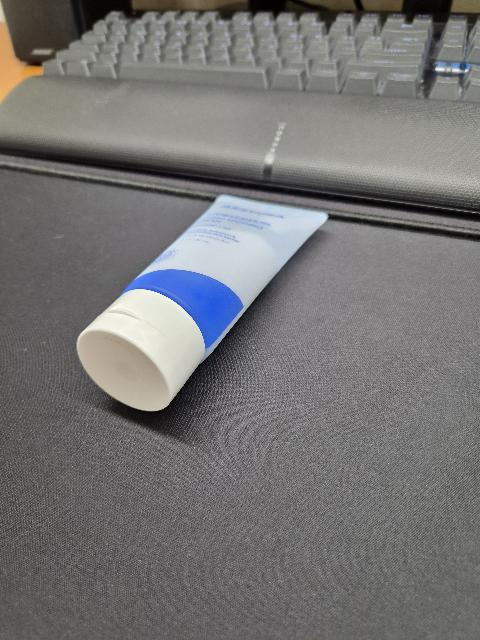handcream: (77, 195, 328, 411)
